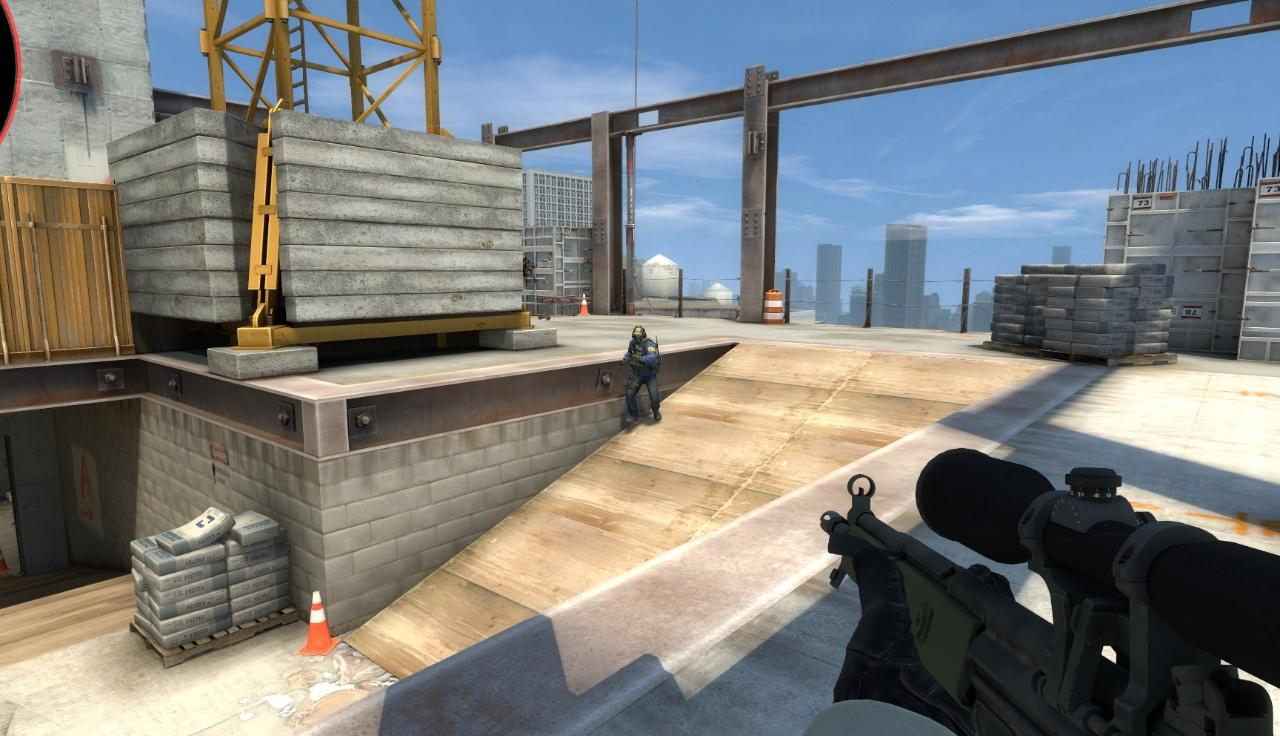ct: (623, 325, 664, 424)
cthead: (632, 324, 646, 343)
sniper: (819, 455, 1280, 736)
